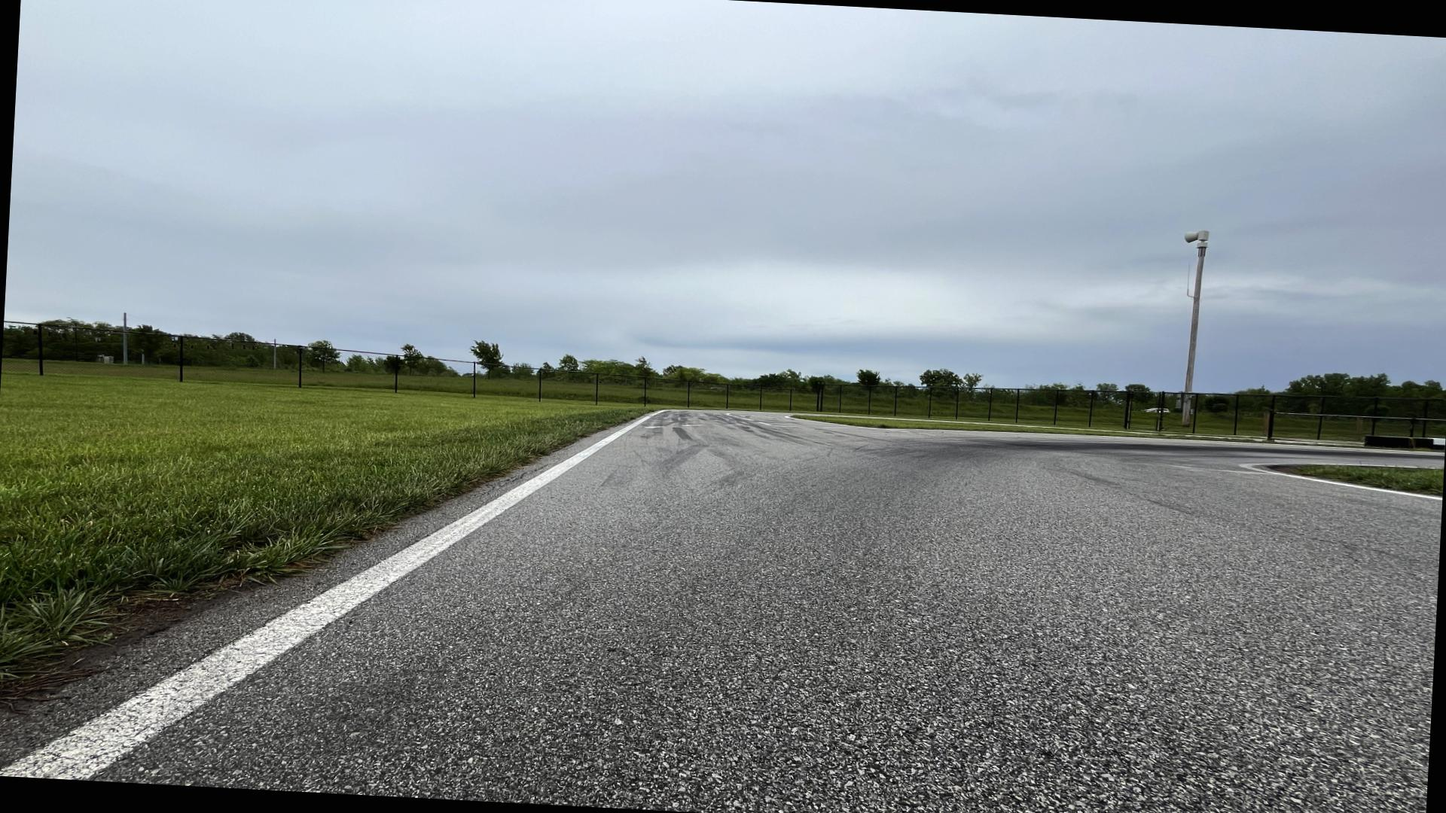white-line: (0, 550, 402, 781), (381, 446, 593, 574), (1248, 465, 1442, 503), (587, 407, 664, 453), (1240, 463, 1347, 470), (693, 408, 735, 413), (662, 409, 693, 411)
